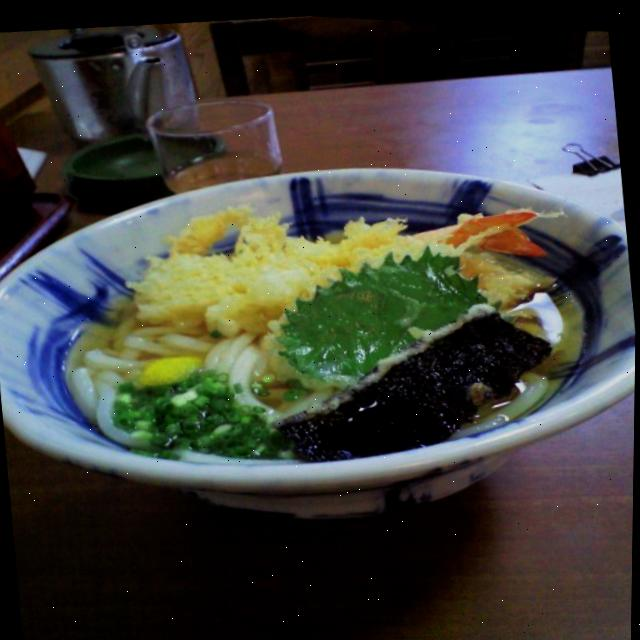面条主食: (28, 168, 602, 506)
